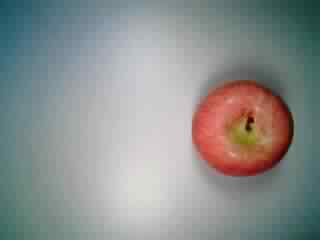apple: (191, 80, 295, 181)
